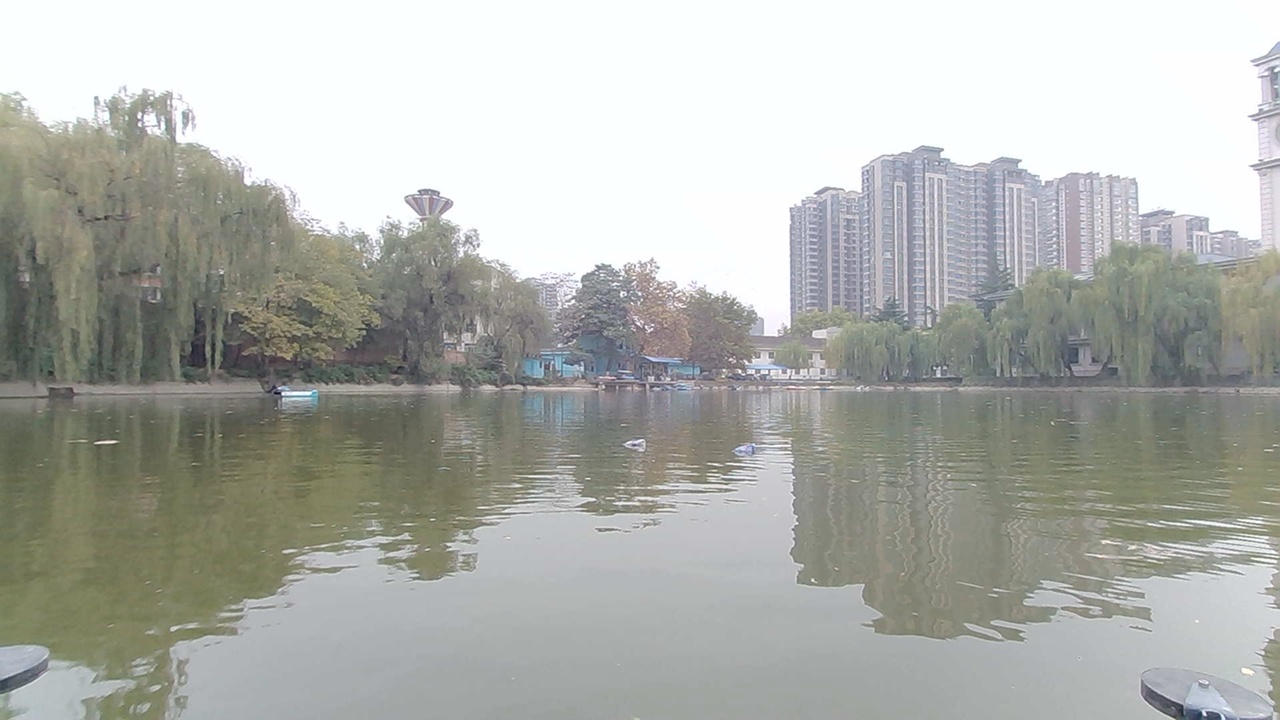bottle: (618, 426, 657, 452), (734, 442, 767, 459)
